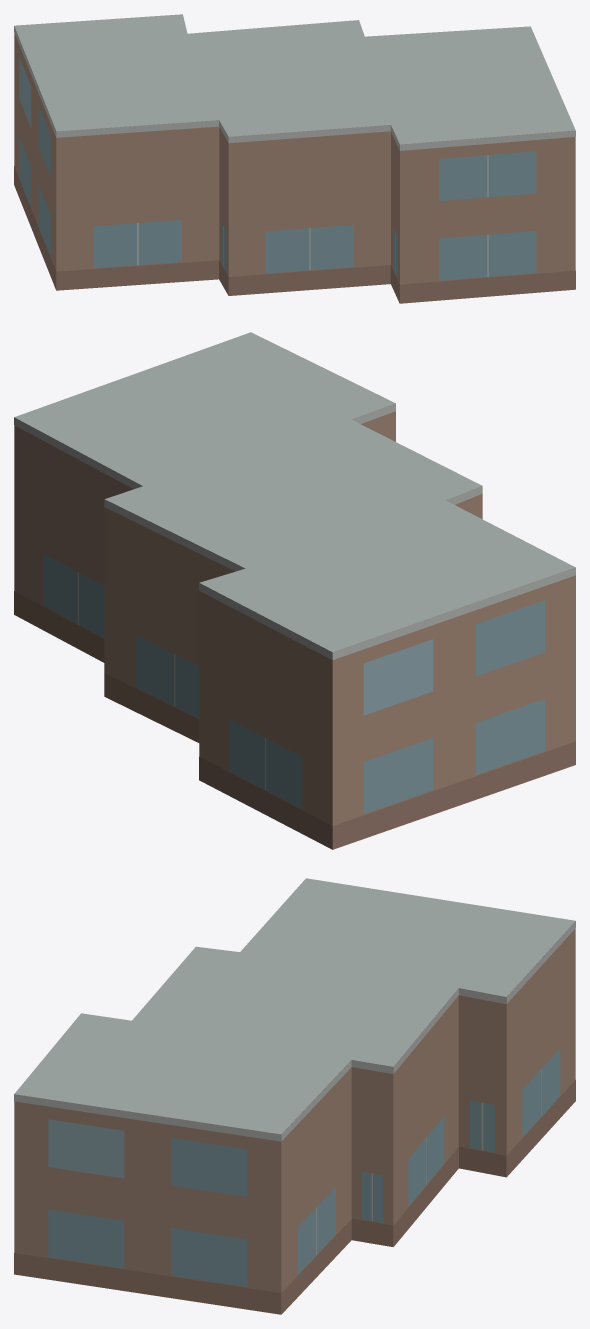
Rendered from survey-upis-32472467.glb.
3 renders of one model, top to bottom at view 1: azimuth 30°, elevation 25°; view 2: azimuth 150°, elevation 25°; view 3: azimuth 270°, elevation 25°, orthographic. The views are drawn at different scales.
Parts seen in each view (by area): view 1: survey-upis-32472467.tmp; view 2: survey-upis-32472467.tmp; view 3: survey-upis-32472467.tmp.
Boxes of the visible parts, box(x1,y1,x2,y2) form: survey-upis-32472467.tmp: box(14, 14, 575, 303); survey-upis-32472467.tmp: box(14, 332, 575, 849); survey-upis-32472467.tmp: box(14, 878, 575, 1314).
Bounding box in the file's own units: 18.61 × 6.1 × 17.24.
